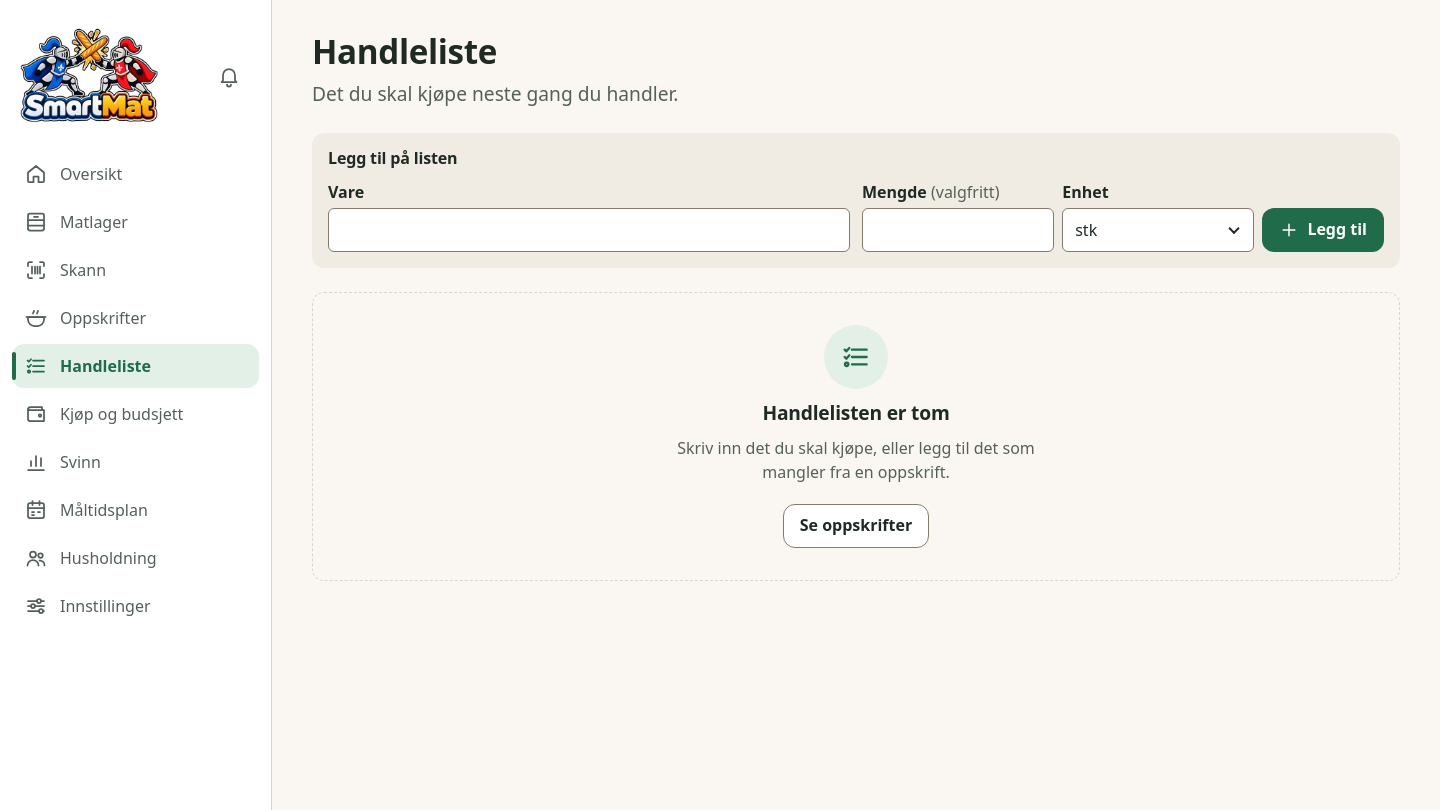
Test: FR-SHOP-001 the list › quick add: an empty text is stopped in the browser, with the message on the field
Click the button "Legg til": click(1323, 230) x1=1262 y1=208 x2=1384 y2=252
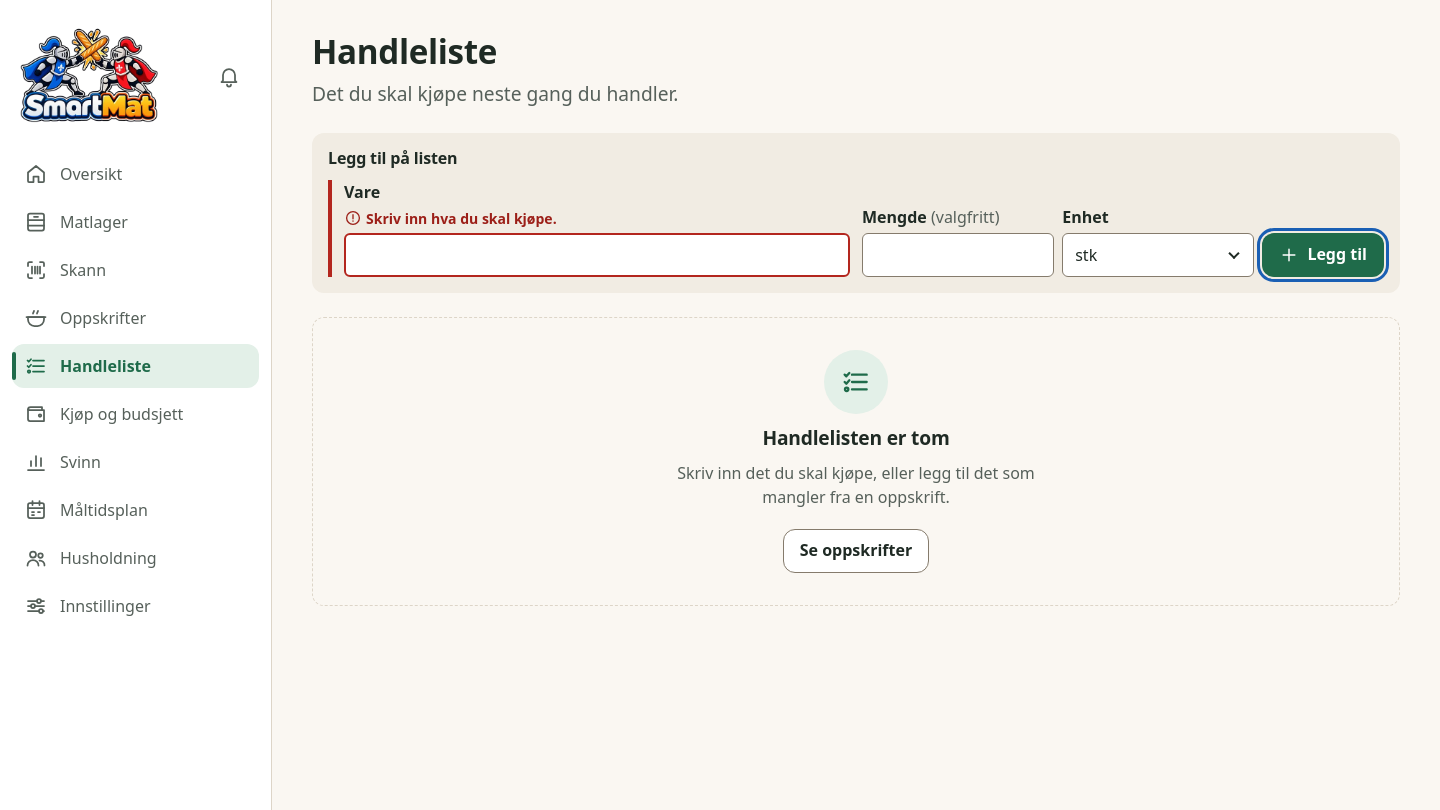
Now the text "Skriv inn hva du skal kjøpe." is shown, box x1=366 y1=208 x2=557 y2=229
